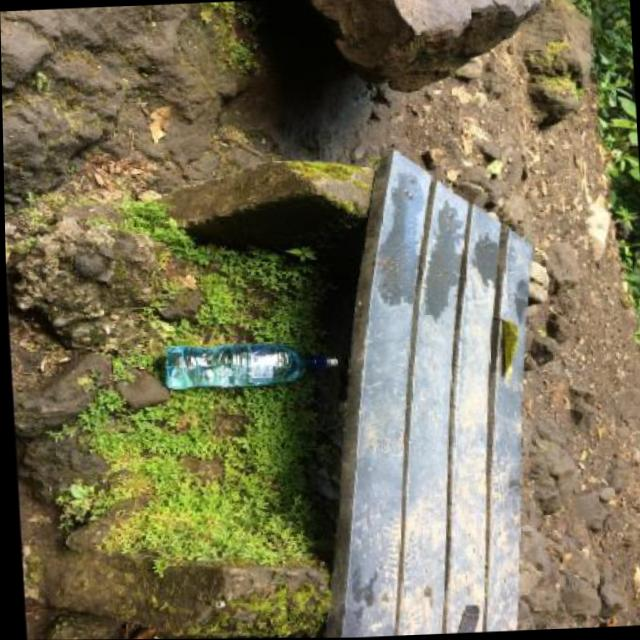plastic: (162, 339, 340, 389)
